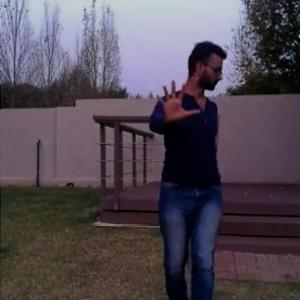follow_hand: (147, 75, 203, 128)
